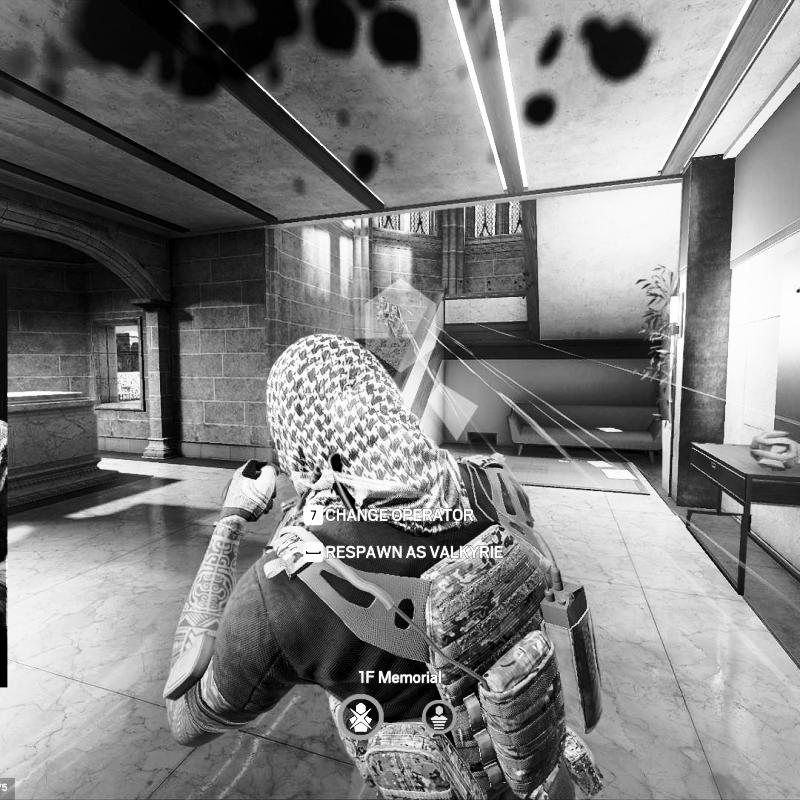Character: (160, 330, 610, 798), (376, 295, 411, 338)
Head: (376, 295, 389, 309)
